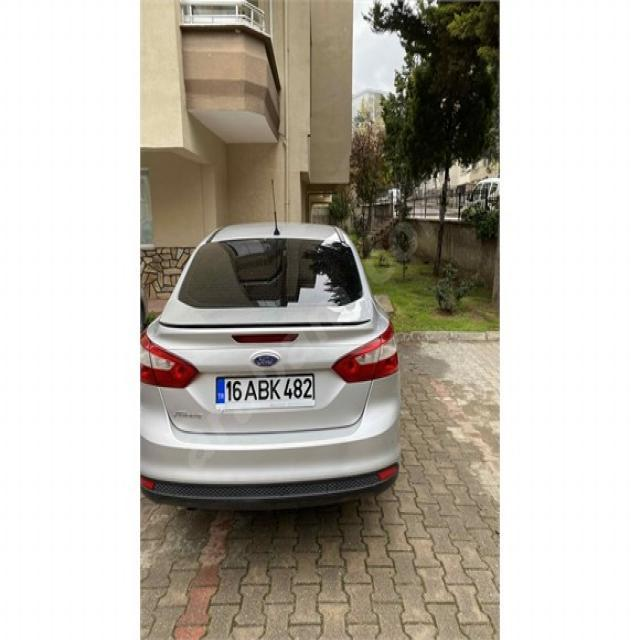plate: (214, 372, 317, 416)
